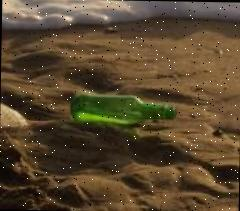glass: (70, 91, 178, 131)
